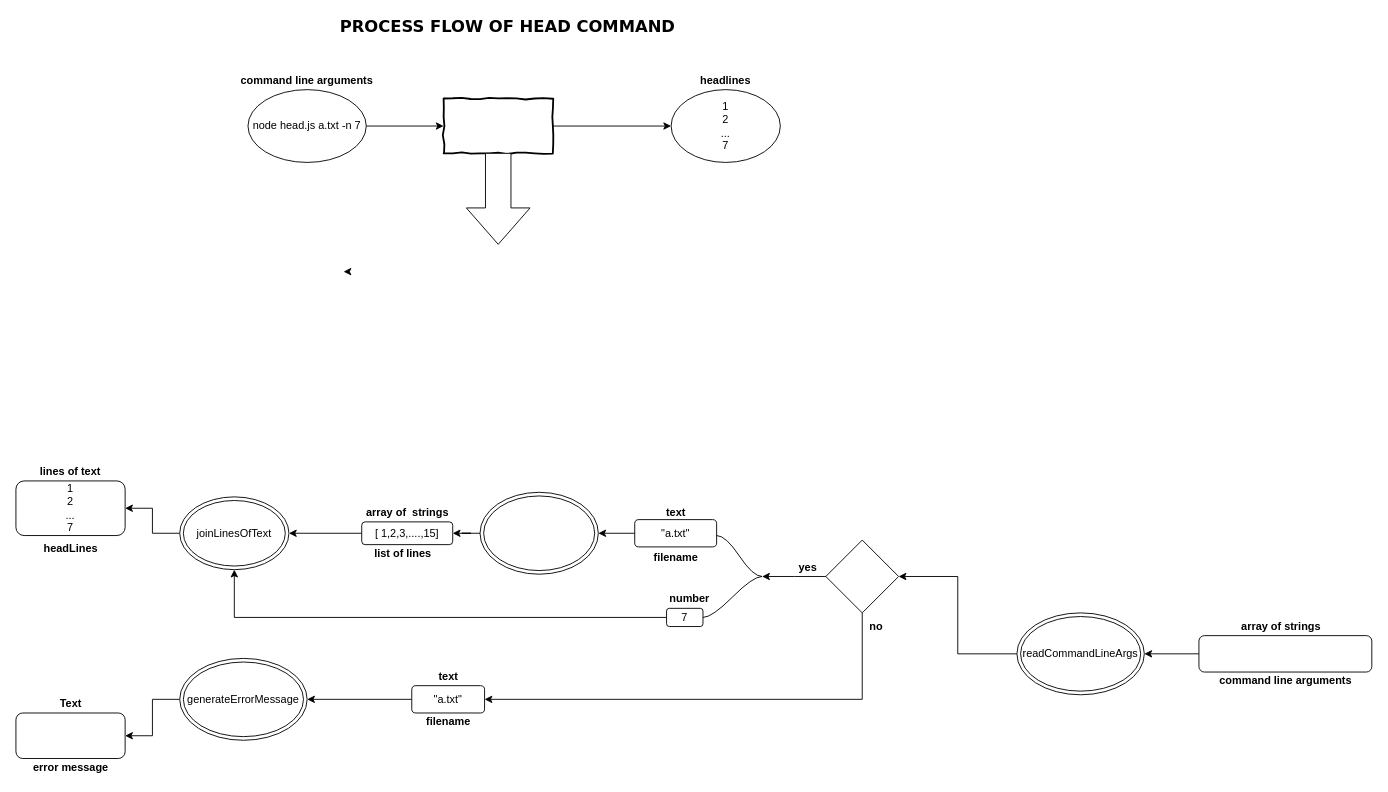
This 1388x792 diagram has some shape labels left out. The shapes that lost their labels are listed below. From the top down, each one's centre as x and y in pixels, then its label:
point (497, 125): Black box
point (538, 532): loadContentsFromFile
point (862, 576): file present
point (1285, 653): ["node", "head.js", "a.txt", "-n", "7"]
point (70, 735): head: a.txt: No such file or directory
